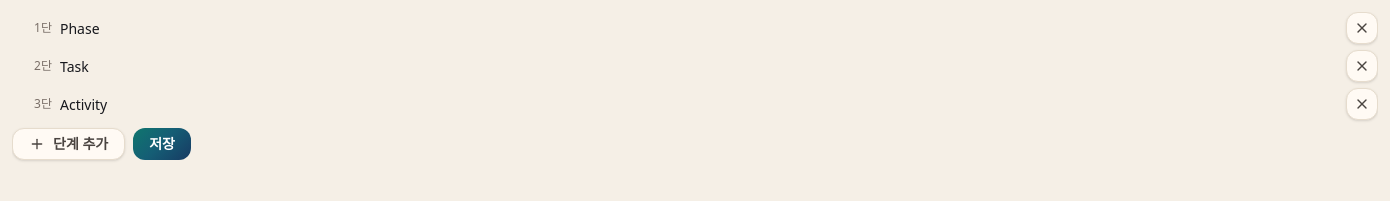
Scenario: LevelSettingsManager › 액션 실패면 에러를 보여주고 새로고침하지 않는다
This screenshot has width=1390, height=201.
Step 1. Click the button "저장" → (162, 144), box [133, 128, 191, 160]
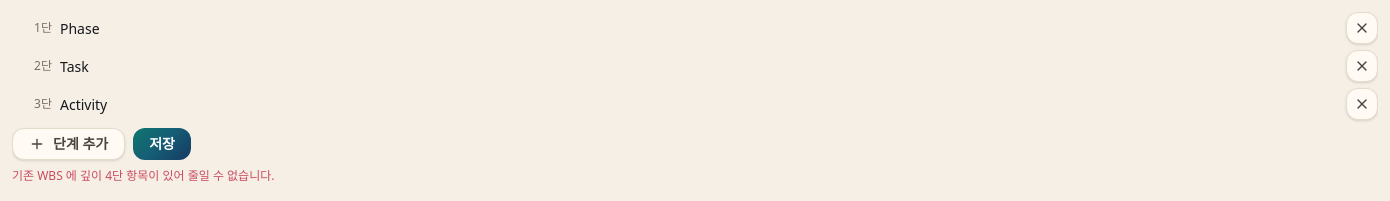
Now the text "줄일 수 없습니다" is shown, box [12, 167, 274, 184]
